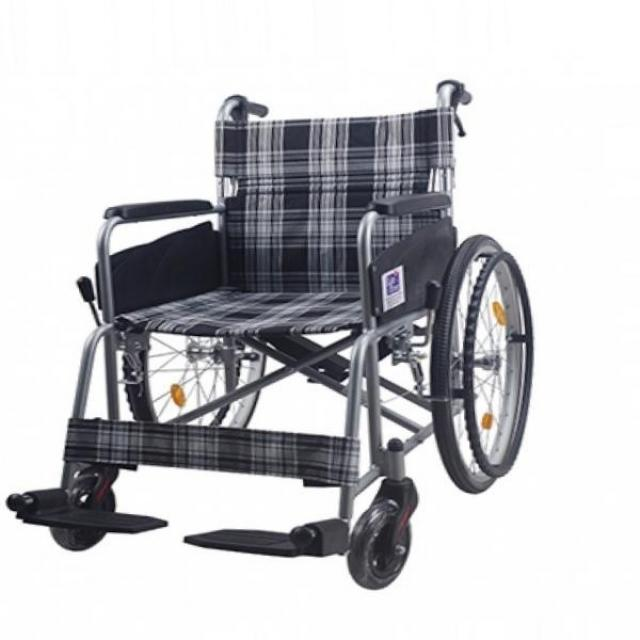wheelchair: (8, 66, 578, 604)
